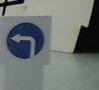left: (7, 23, 45, 59)
